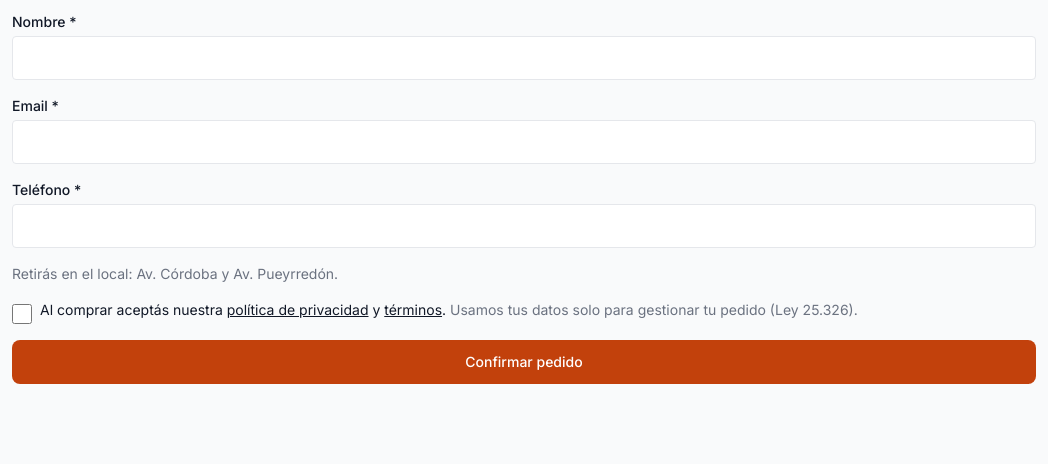
Test: CheckoutForm — errores del servidor (D5) › 403 → banner "Recargá la página…"
The image size is (1048, 464).
Type "Ana Gómez" into the field labelled "Nombre *" at point(524, 58), box [12,36,1036,80]
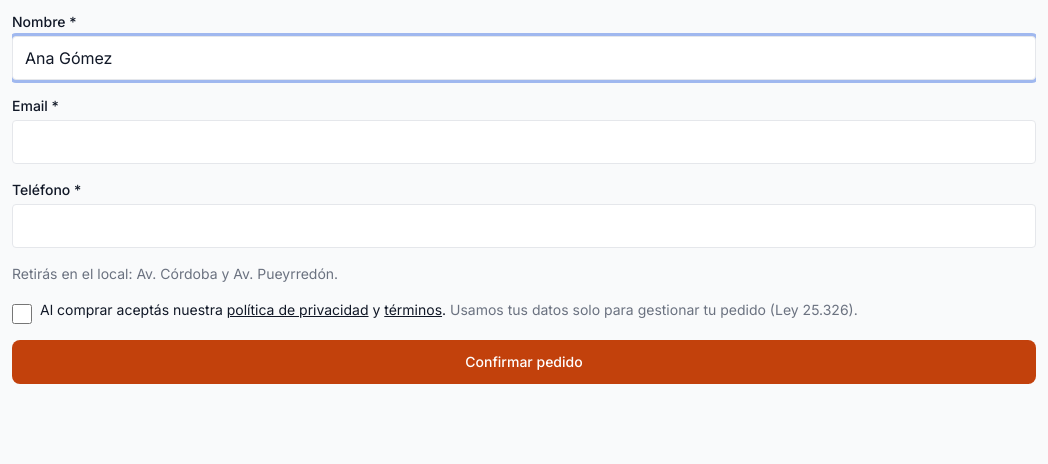
Type "ana@example.com" into the field labelled "Email *" at point(524, 142), box [12,120,1036,164]
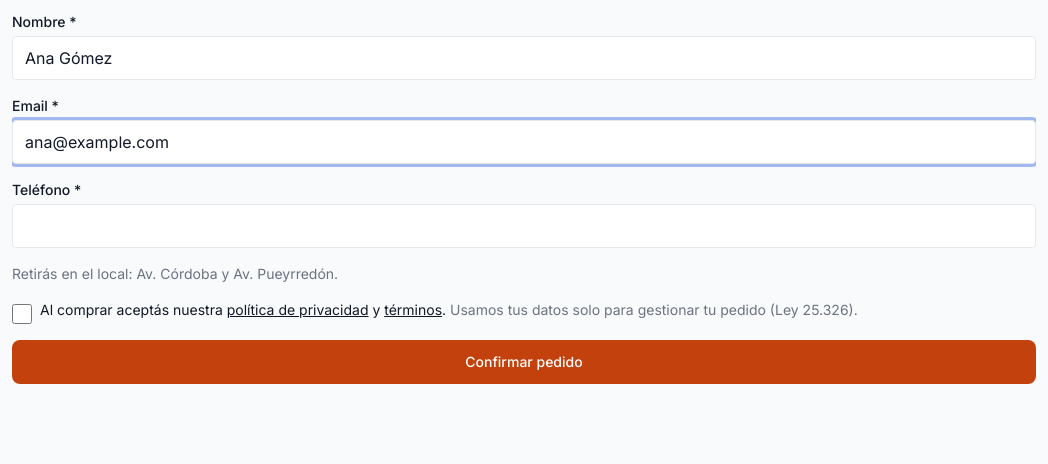
Type "+54 9 11 5555 5555" into the field labelled "Teléfono *" at point(524, 226), box [12,204,1036,248]
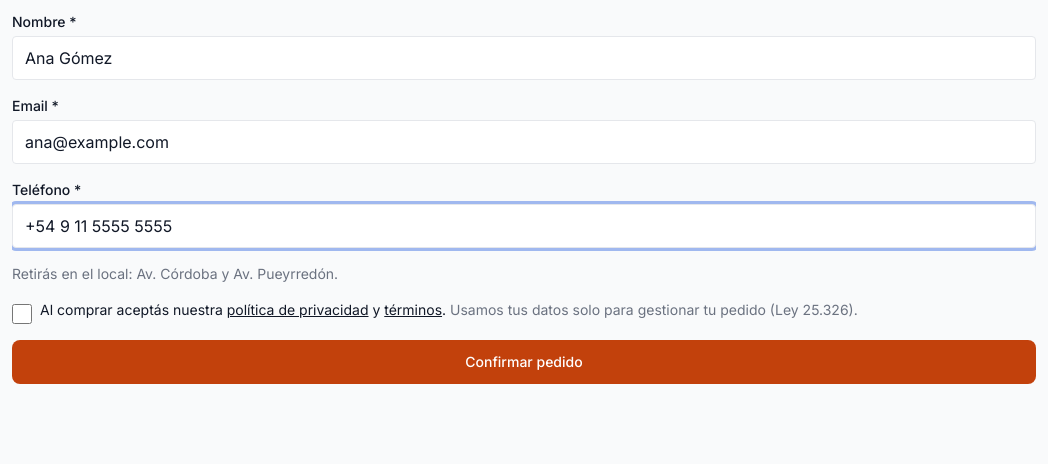
Click the checkbox at point(22, 314), box [12,304,32,324]
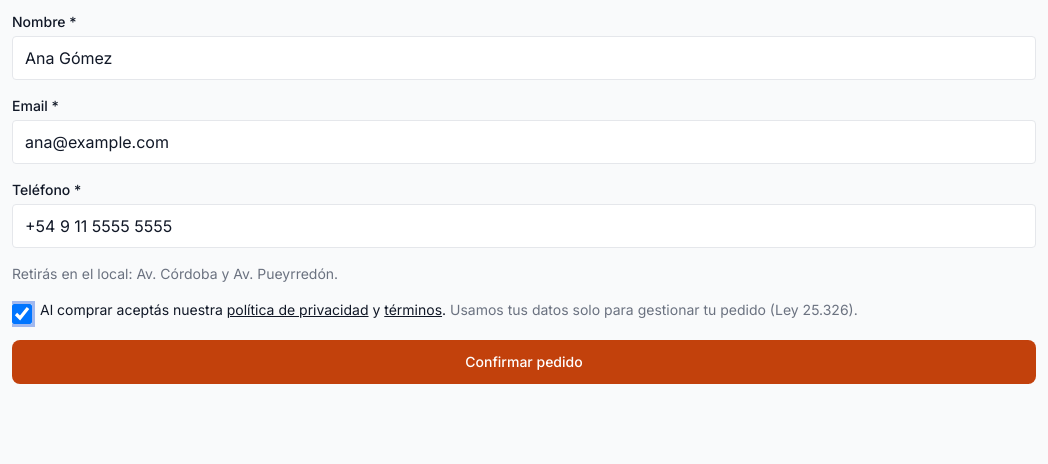
Click the button "Confirmar pedido" at point(524, 362), box [12,340,1036,384]
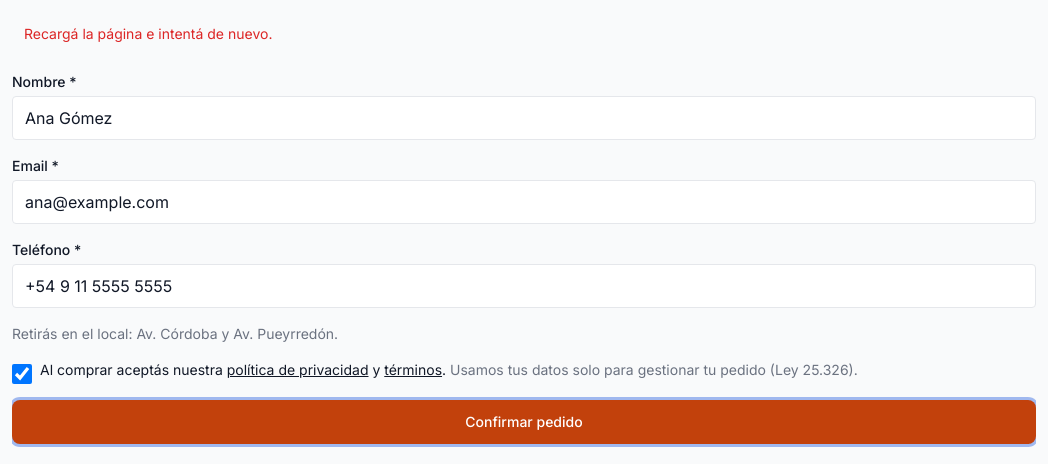
Check: the message shows "Recargá la página", box [24,25,272,42]
